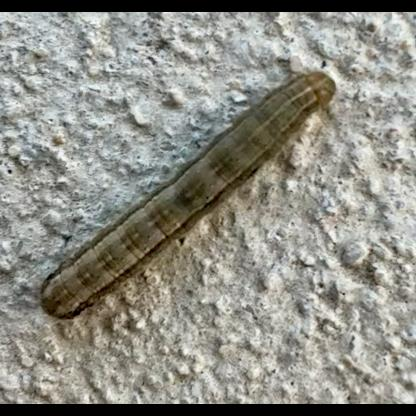Fall Armyworm Larvae: (36, 66, 340, 324)
